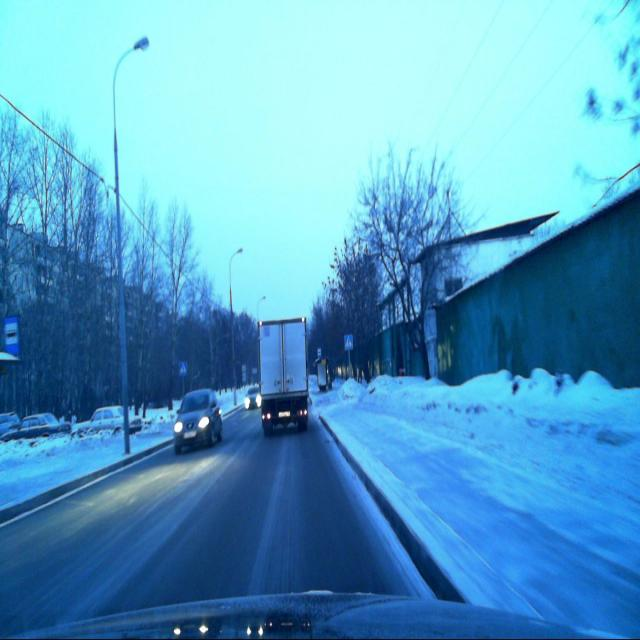road sign: (3, 316, 20, 356), (344, 333, 354, 350), (178, 360, 187, 375)
